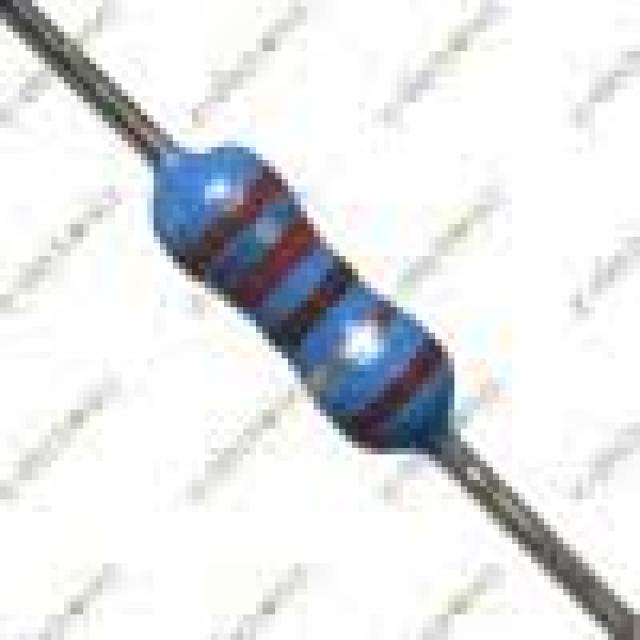Resistor: (152, 149, 452, 442)
